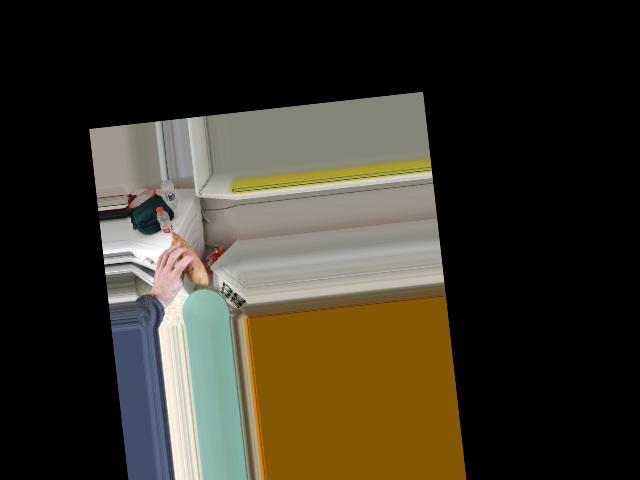sweet_potato: (161, 232, 206, 280)
